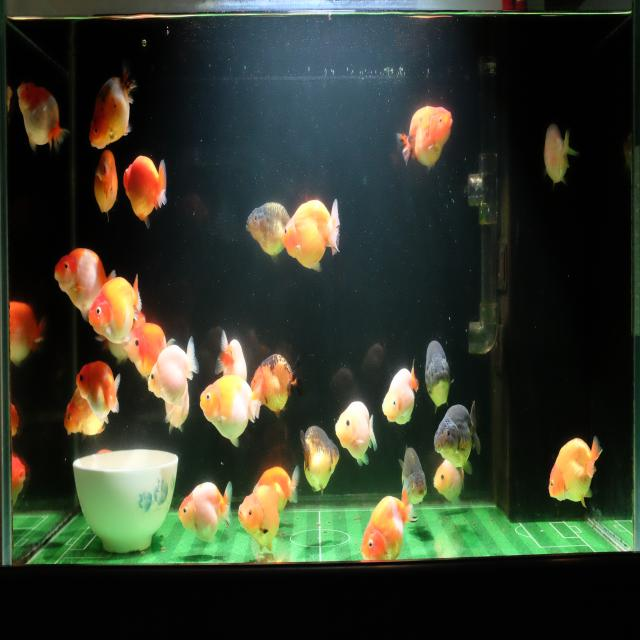Goldfish: (359, 478, 420, 565), (279, 194, 342, 278), (52, 244, 116, 324), (198, 373, 262, 451), (86, 268, 144, 346), (88, 62, 138, 152), (394, 102, 453, 177), (547, 432, 605, 508), (15, 77, 71, 155), (433, 396, 483, 479), (248, 349, 305, 421), (177, 479, 235, 547), (146, 333, 200, 403), (121, 321, 177, 386), (121, 153, 168, 230), (298, 419, 340, 501), (380, 352, 420, 436), (332, 396, 378, 469), (237, 480, 280, 554), (245, 198, 292, 261), (74, 358, 120, 422), (10, 298, 46, 372), (252, 462, 300, 516), (541, 121, 578, 190), (423, 335, 454, 416), (61, 386, 106, 440), (211, 327, 248, 388), (398, 441, 428, 512), (92, 146, 118, 222), (432, 454, 466, 509), (163, 374, 190, 439), (12, 450, 28, 510)
